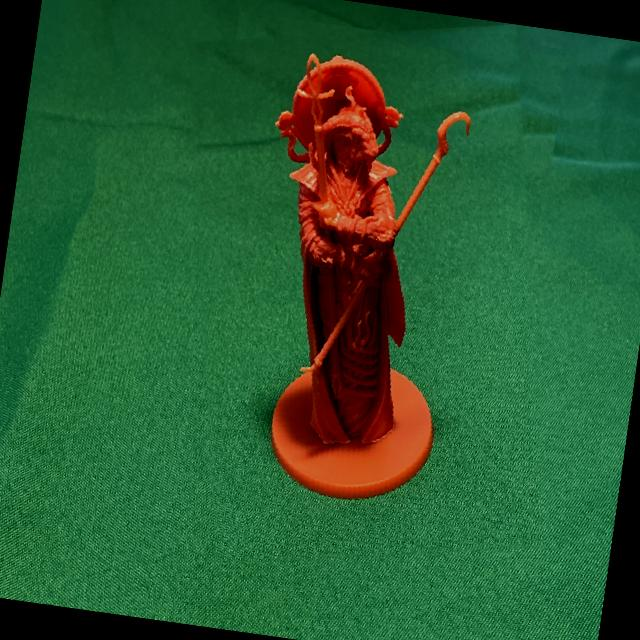amon: (142, 0, 591, 593)
